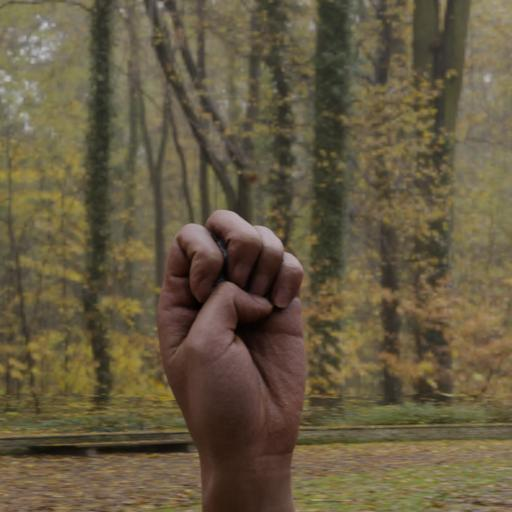E: (150, 204, 317, 461)
